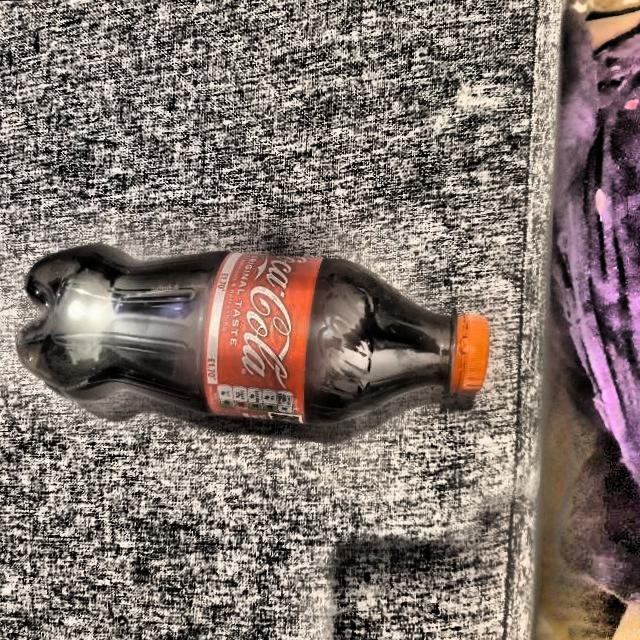coke-bottle: (16, 245, 496, 427)
